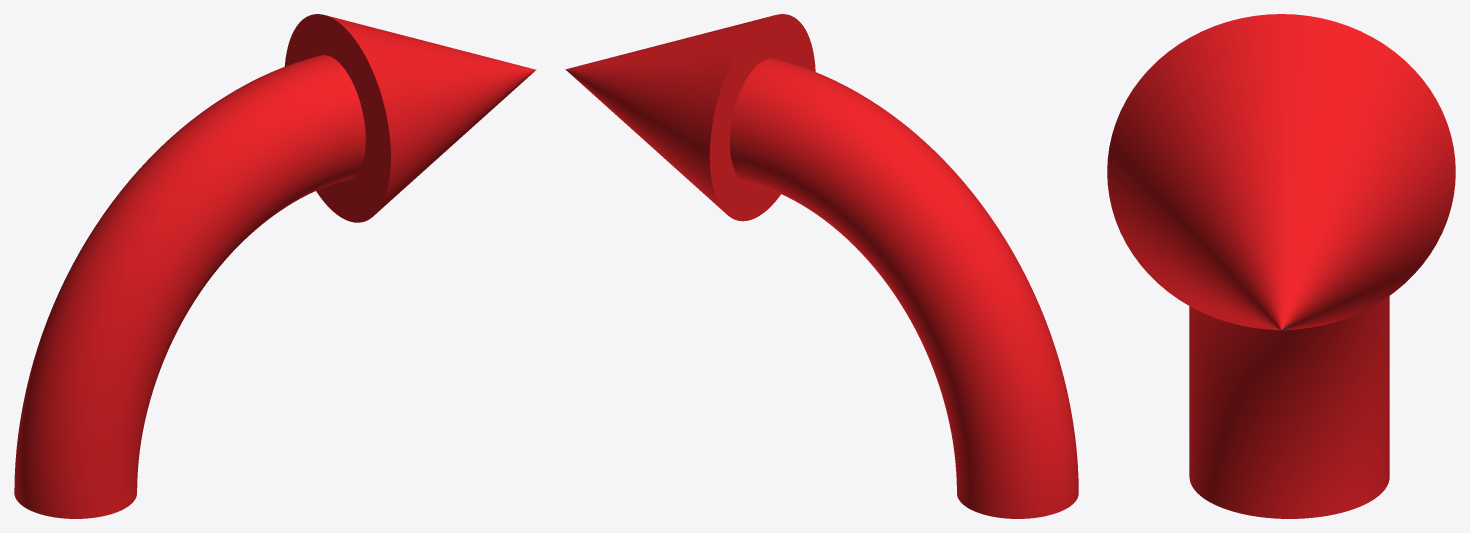
The model's file is Стрелка с поворотом.fbx.
The picture shows the model from 3 angles, left to right: view 1: azimuth 30°, elevation 25°; view 2: azimuth 150°, elevation 25°; view 3: azimuth 270°, elevation 25°; orthographic projection. The views are drawn at different scales.
Visible parts, largest first — view 1: root (×2); view 2: root (×2); view 3: root (×2).
Boxes of the visible parts, left/top/right/bottom form: root (×2): left=14, top=14, right=536, bottom=518; root (×2): left=565, top=14, right=1078, bottom=518; root (×2): left=1107, top=14, right=1455, bottom=518.
Bounding box in the file's own units: 0.1141 × 0.0874 × 0.0413.
Materials: 2 (2 with a texture image).
